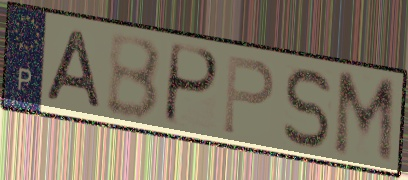A: (42, 27, 104, 113)
B: (105, 33, 164, 124)
M: (330, 69, 398, 169)
P: (161, 41, 222, 130), (220, 52, 277, 139)
S: (281, 65, 334, 152)
